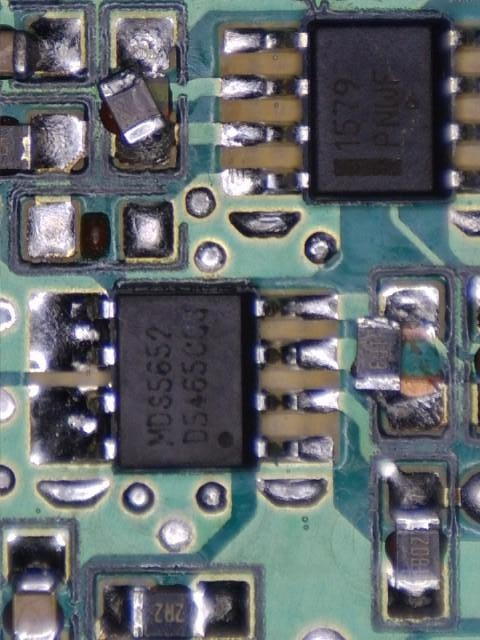pcb_defect: (355, 287, 444, 431), (96, 16, 175, 164), (0, 17, 81, 79), (0, 114, 84, 171)
